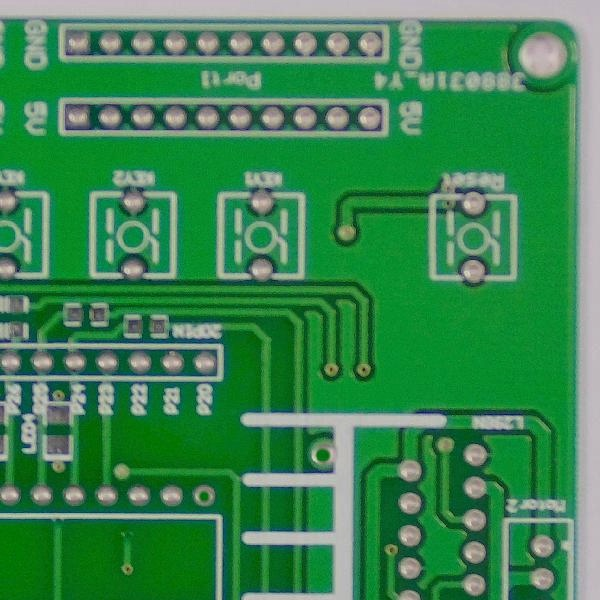missing_hole: (309, 438, 340, 473), (192, 482, 220, 509)
